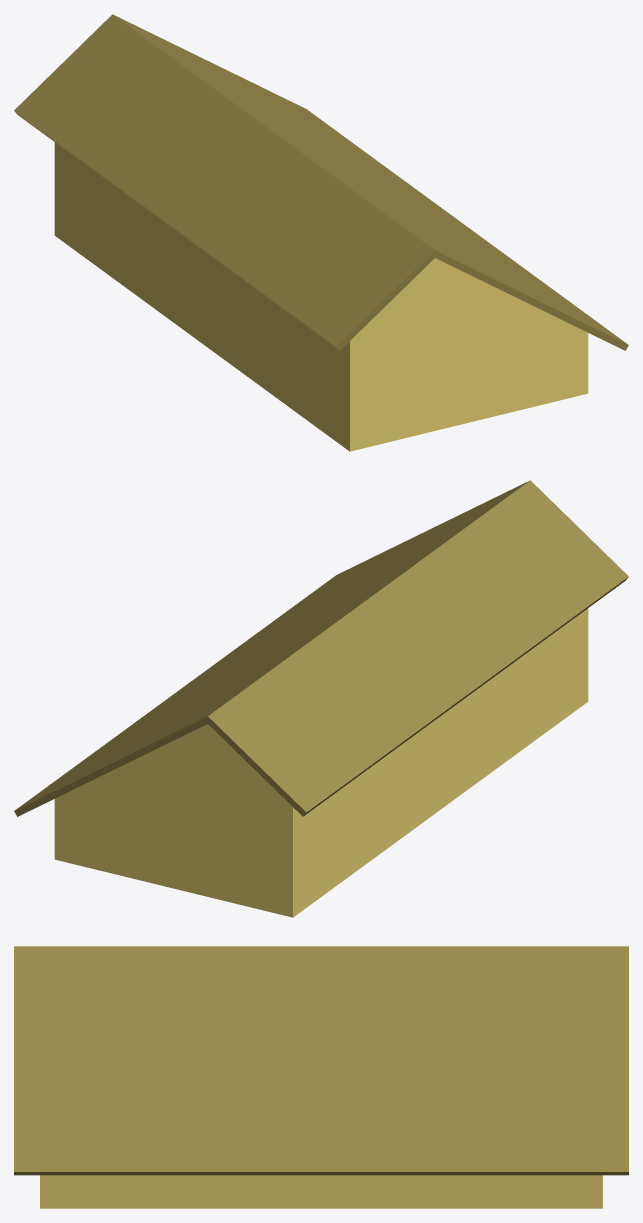
Rendered from result.glb.
The picture shows the model from 3 angles, top to bottom: view 1: azimuth 30°, elevation 25°; view 2: azimuth 150°, elevation 25°; view 3: azimuth 270°, elevation 25°; orthographic projection. The views are drawn at different scales.
Visible parts, largest first — view 1: 1b393ce2-54f3-46ce-a364-9a83c9103526__undefined (×2), 47574179-919b-4517-a0a0-cd5551a2e525__undefined; view 2: 1b393ce2-54f3-46ce-a364-9a83c9103526__undefined (×2), 47574179-919b-4517-a0a0-cd5551a2e525__undefined; view 3: 1b393ce2-54f3-46ce-a364-9a83c9103526__undefined, 47574179-919b-4517-a0a0-cd5551a2e525__undefined.
Part boxes in pixels (x1,y1,x2,y2): 1b393ce2-54f3-46ce-a364-9a83c9103526__undefined (×2): (14,14,628,350); 47574179-919b-4517-a0a0-cd5551a2e525__undefined: (54,142,588,451); 1b393ce2-54f3-46ce-a364-9a83c9103526__undefined (×2): (14,480,628,816); 47574179-919b-4517-a0a0-cd5551a2e525__undefined: (54,608,588,917); 1b393ce2-54f3-46ce-a364-9a83c9103526__undefined: (14,946,628,1175); 47574179-919b-4517-a0a0-cd5551a2e525__undefined: (40,1175,602,1208).
Size of the model in its own units: 1225 by 776 by 2339.
